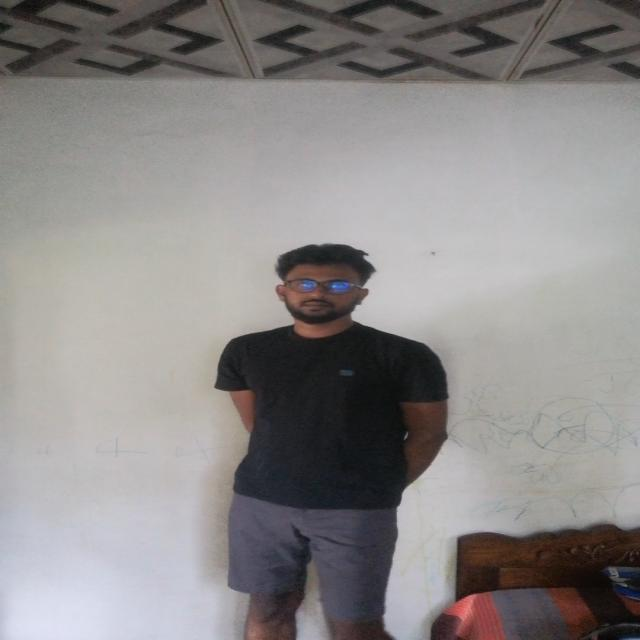Person: (213, 241, 439, 640)
